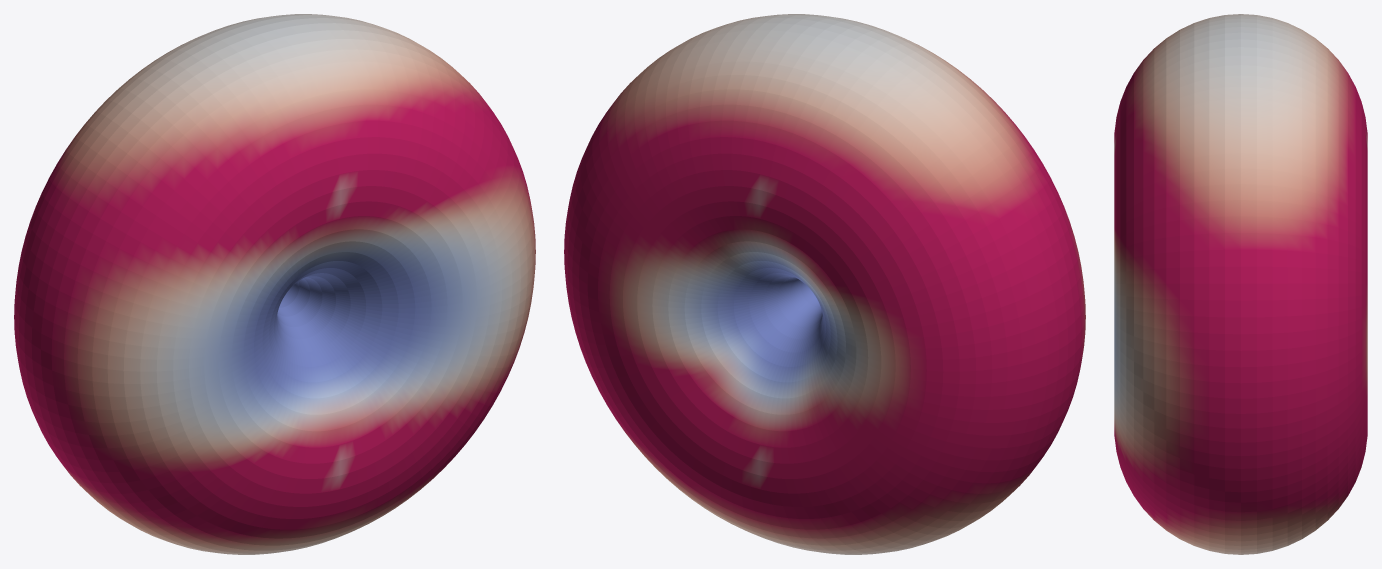
The picture shows the model from 3 angles, left to right: view 1: azimuth 30°, elevation 25°; view 2: azimuth 150°, elevation 25°; view 3: azimuth 270°, elevation 25°; orthographic projection. The views are drawn at different scales.
Visible parts, largest first — view 1: world; view 2: world; view 3: world.
Part boxes in pixels (bbox=[...]): world: bbox=[14, 14, 535, 554]; world: bbox=[564, 14, 1085, 554]; world: bbox=[1114, 14, 1367, 554].
Bounding box in the file's own units: 21.33 × 21.33 × 9.98.
